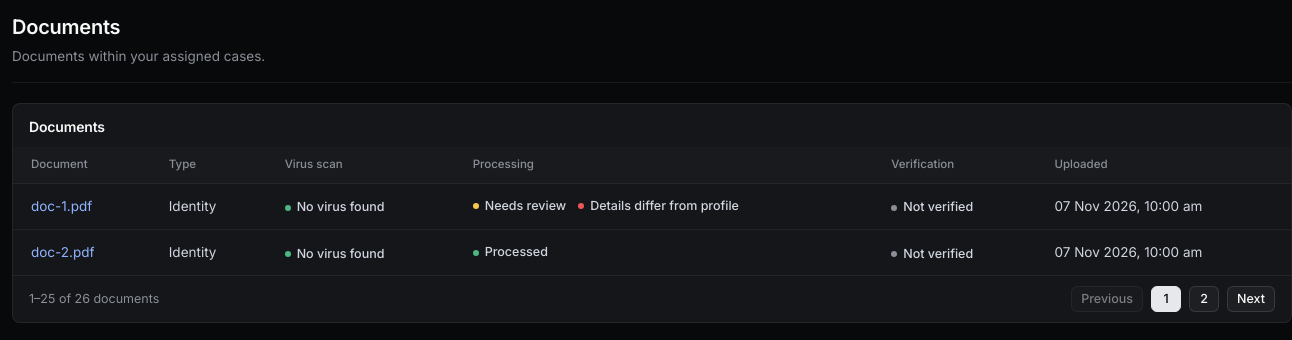
Test: documents list › flags a document whose details differ, and pages through the list
Expected: the text "doc-1.pdf" shows "Details differ from profile", left=590, top=198, right=739, bottom=213
Expected: the text "doc-2.pdf" does not show "Details differ"
Click the button "Next".
click(1251, 299)  # box left=1227, top=286, right=1275, bottom=312
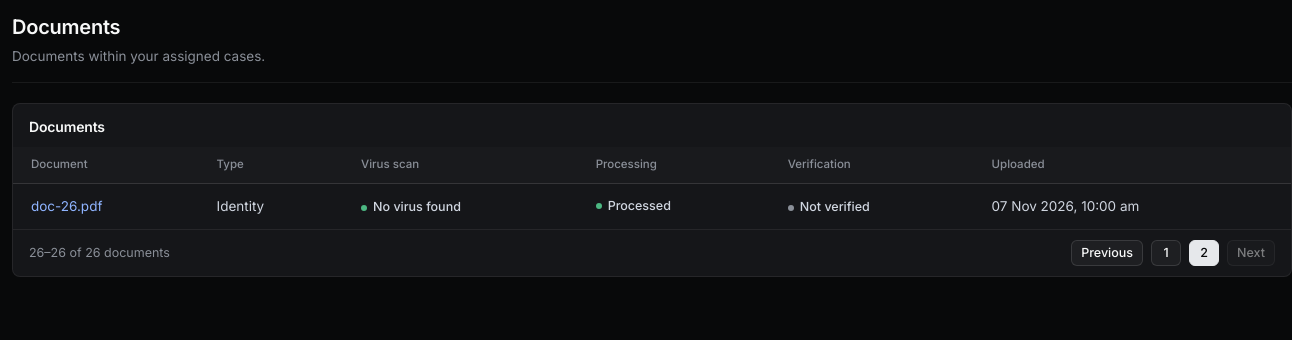
Now the link "doc-26.pdf" is shown, box left=31, top=198, right=102, bottom=214
Now the text "26–26 of 26 documents" is shown, box left=29, top=244, right=170, bottom=262
